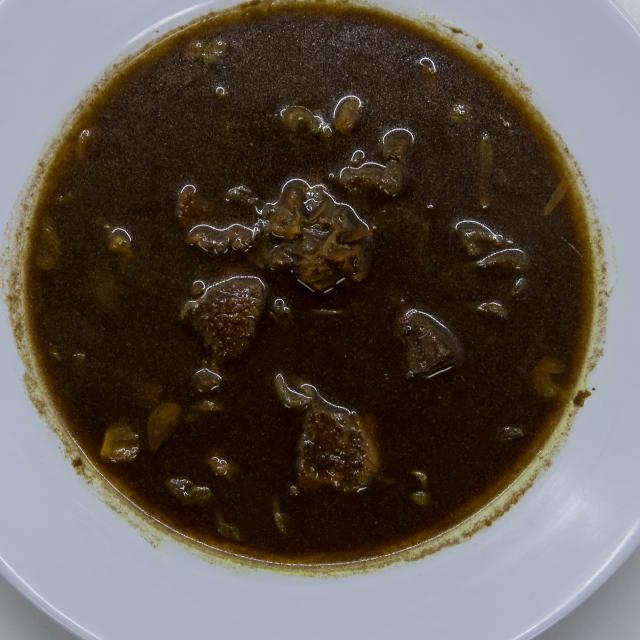Rawon-Surabaya: (24, 4, 608, 582)
